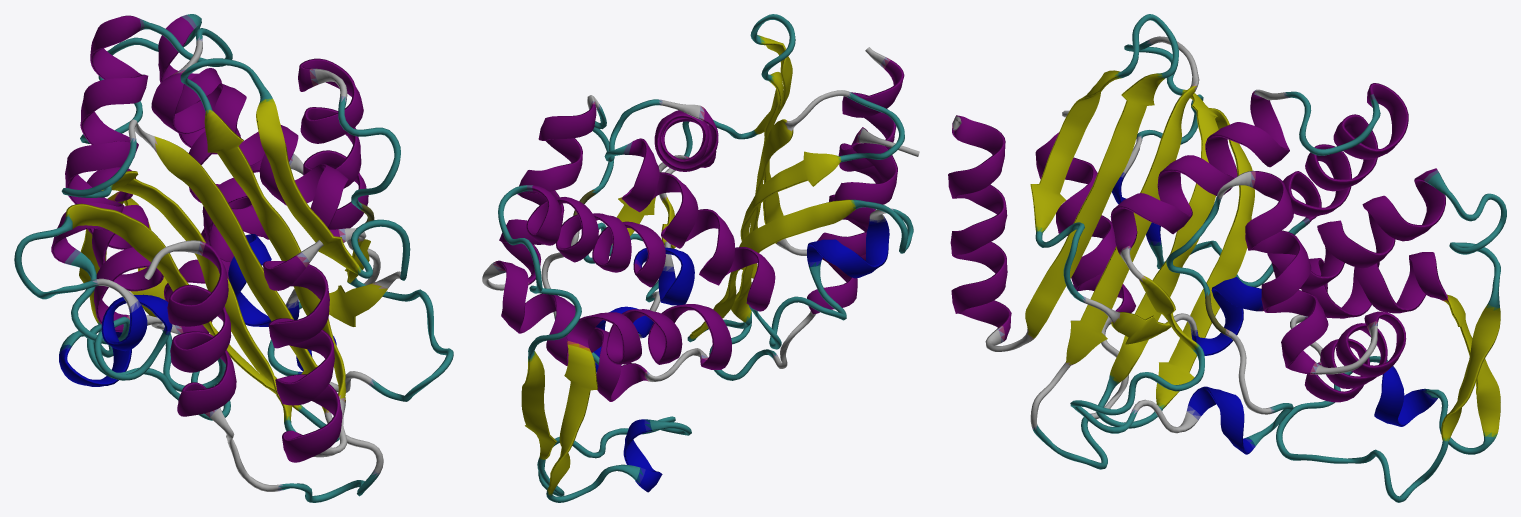
Rendered from animate.0013.obj.
The picture shows the model from 3 angles, left to right: view 1: azimuth 30°, elevation 25°; view 2: azimuth 150°, elevation 25°; view 3: azimuth 270°, elevation 25°; orthographic projection. The views are drawn at different scales.
Visible parts, largest first — view 1: vmd_mol0_rep0; view 2: vmd_mol0_rep0; view 3: vmd_mol0_rep0.
Boxes of the visible parts, bbox=[...] form: vmd_mol0_rep0: bbox=[14, 14, 453, 502]; vmd_mol0_rep0: bbox=[482, 14, 919, 502]; vmd_mol0_rep0: bbox=[948, 14, 1506, 502].
Bounding box in the file's own units: 1.02 × 1.12 × 1.32.
